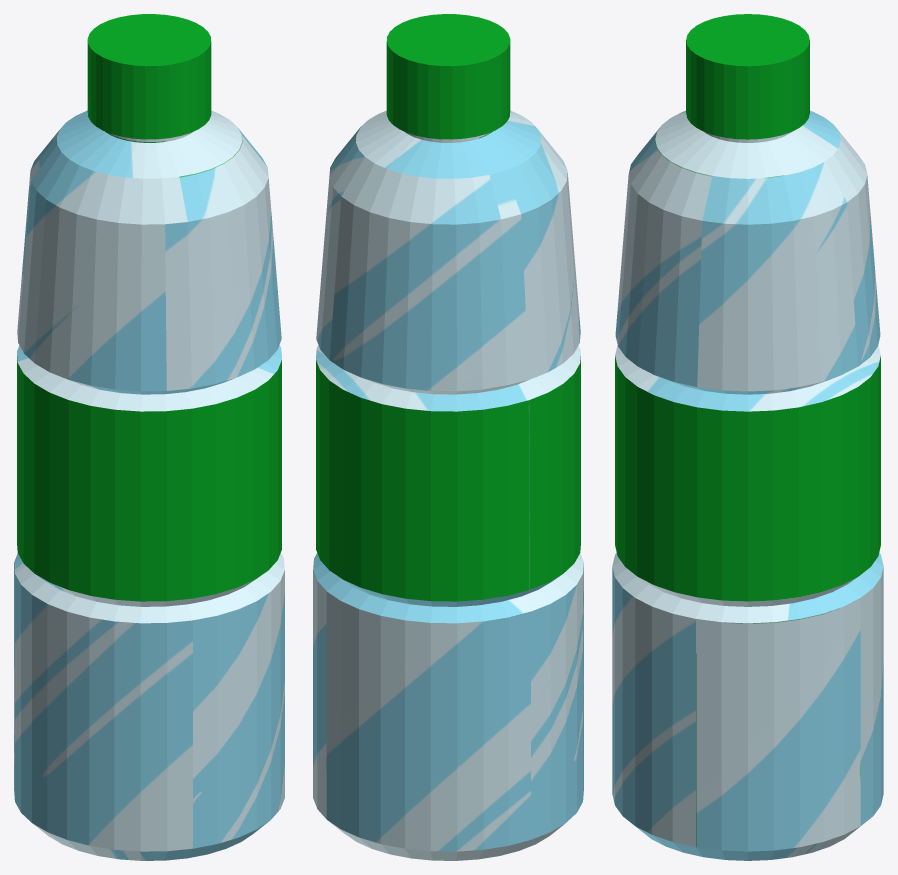
File: Water Bottle GB (1).glb
The picture shows the model from 3 angles, left to right: view 1: azimuth 30°, elevation 25°; view 2: azimuth 150°, elevation 25°; view 3: azimuth 270°, elevation 25°; orthographic projection.
Visible parts, largest first — view 1: Cylinder; view 2: Cylinder; view 3: Cylinder.
Boxes of the visible parts, x1=… form: Cylinder: x1=14, y1=14, x2=284, y2=860; Cylinder: x1=313, y1=14, x2=583, y2=860; Cylinder: x1=612, y1=14, x2=883, y2=860.
Bounding box in the file's own units: 2 × 6.28 × 2.
1 material, 1 textured.
